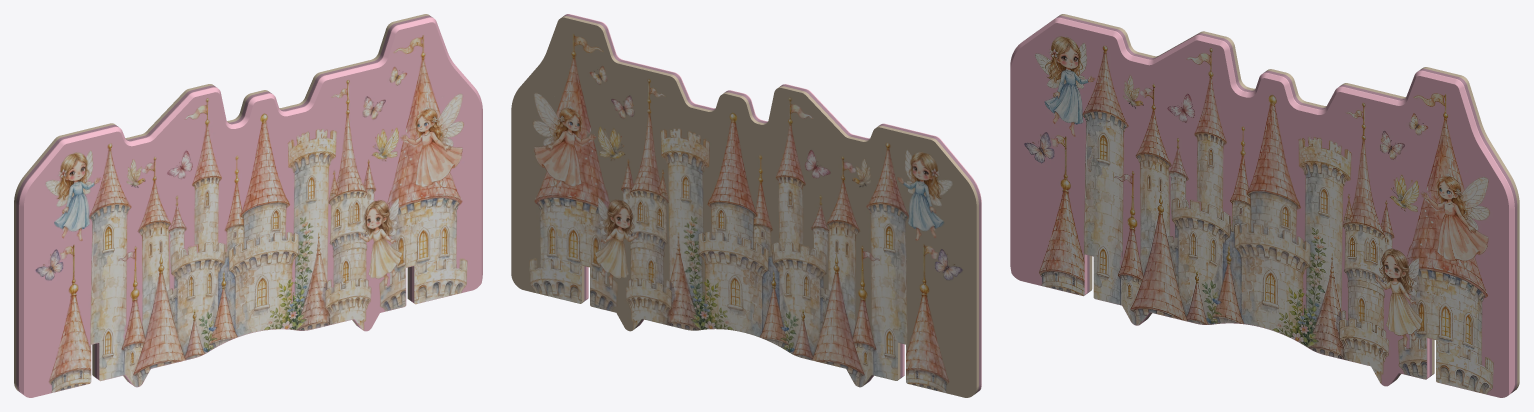
The picture shows the model from 3 angles, left to right: view 1: azimuth 30°, elevation 25°; view 2: azimuth 150°, elevation 25°; view 3: azimuth 330°, elevation 25°; orthographic projection. The views are drawn at different scales.
Visible parts, largest first — view 1: p001; view 2: p001; view 3: p001.
Part boxes in pixels (x1,y1,x2,y2): p001: [14, 14, 482, 397]; p001: [511, 14, 981, 397]; p001: [1010, 14, 1519, 397].
Size of the model in its own units: 1066 by 651 by 27.
Materials: 5 (2 with a texture image).
